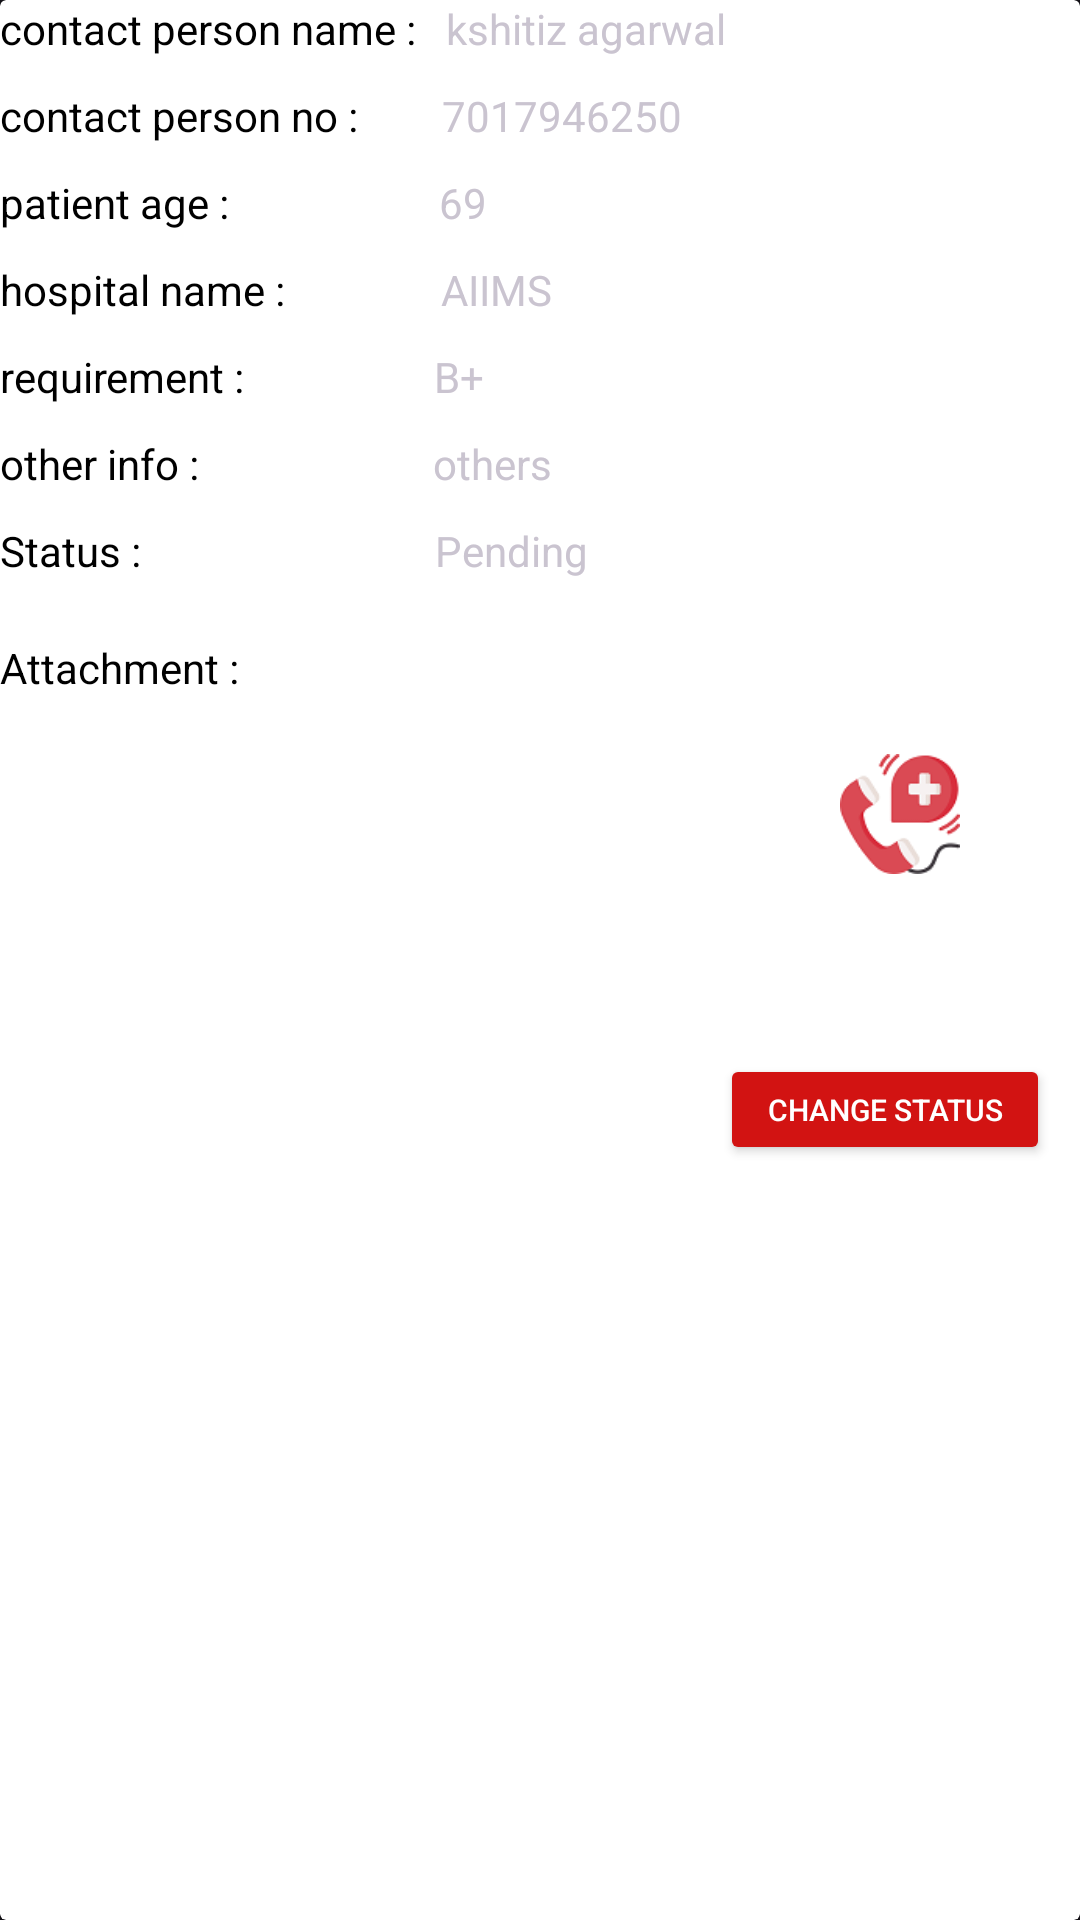

Icon bounding boxes for this 1080w x 1920h phone screenshot, format bbox(x1, y1, x2, y2):
call: bbox(840, 754, 960, 874)
